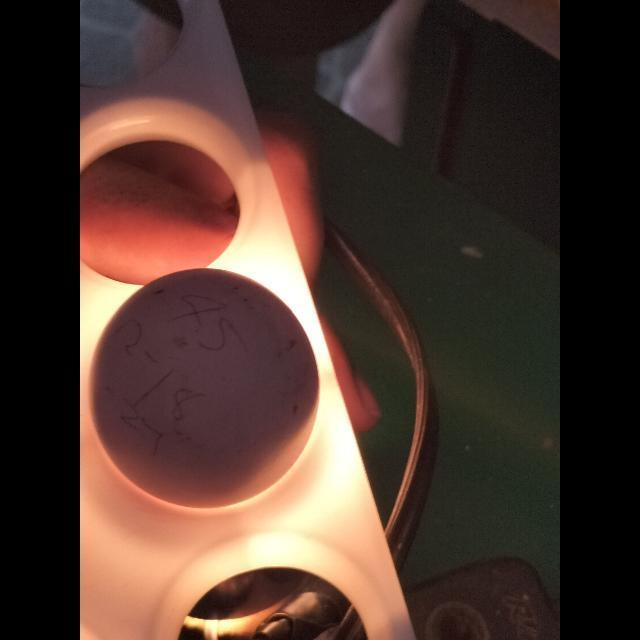A - Good: (84, 264, 322, 509)
